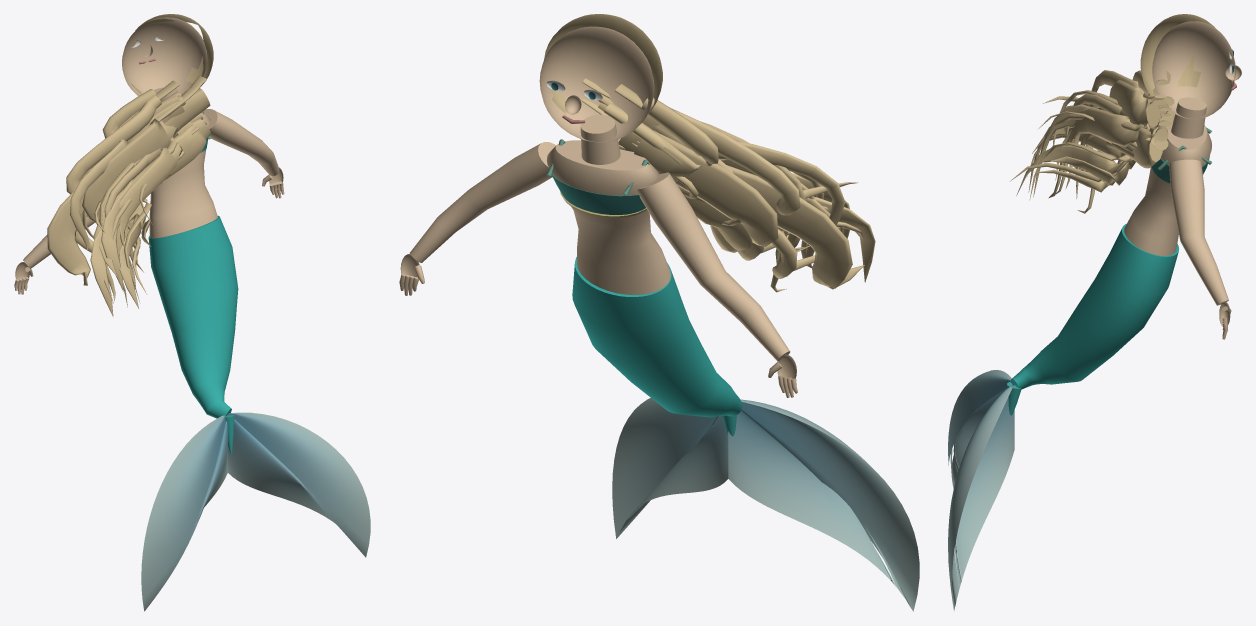
Rendered from mermaid-procedural.glb.
3 renders of one model, left to right at view 1: azimuth 30°, elevation 25°; view 2: azimuth 150°, elevation 25°; view 3: azimuth 270°, elevation 25°, orthographic. The views are drawn at different scales.
Parts seen in each view (by area): view 1: mermaid; view 2: mermaid; view 3: mermaid.
Boxes of the visible parts, x1,y1,x2,y2 form: mermaid: [14, 14, 370, 611]; mermaid: [399, 14, 919, 611]; mermaid: [948, 14, 1241, 611].
Size of the model in its own units: 3.03 by 4.91 by 2.41.
